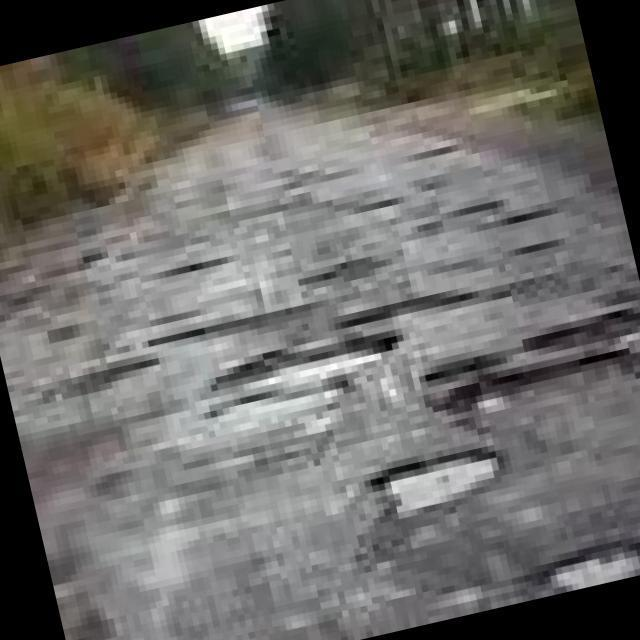Pothole: (201, 341, 383, 417), (370, 447, 507, 525), (452, 343, 631, 393)
